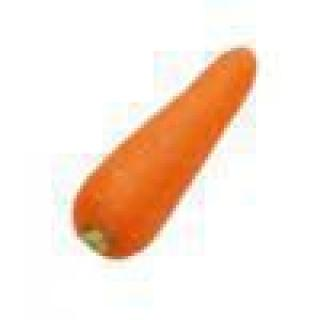Wortel: (36, 46, 267, 260)
